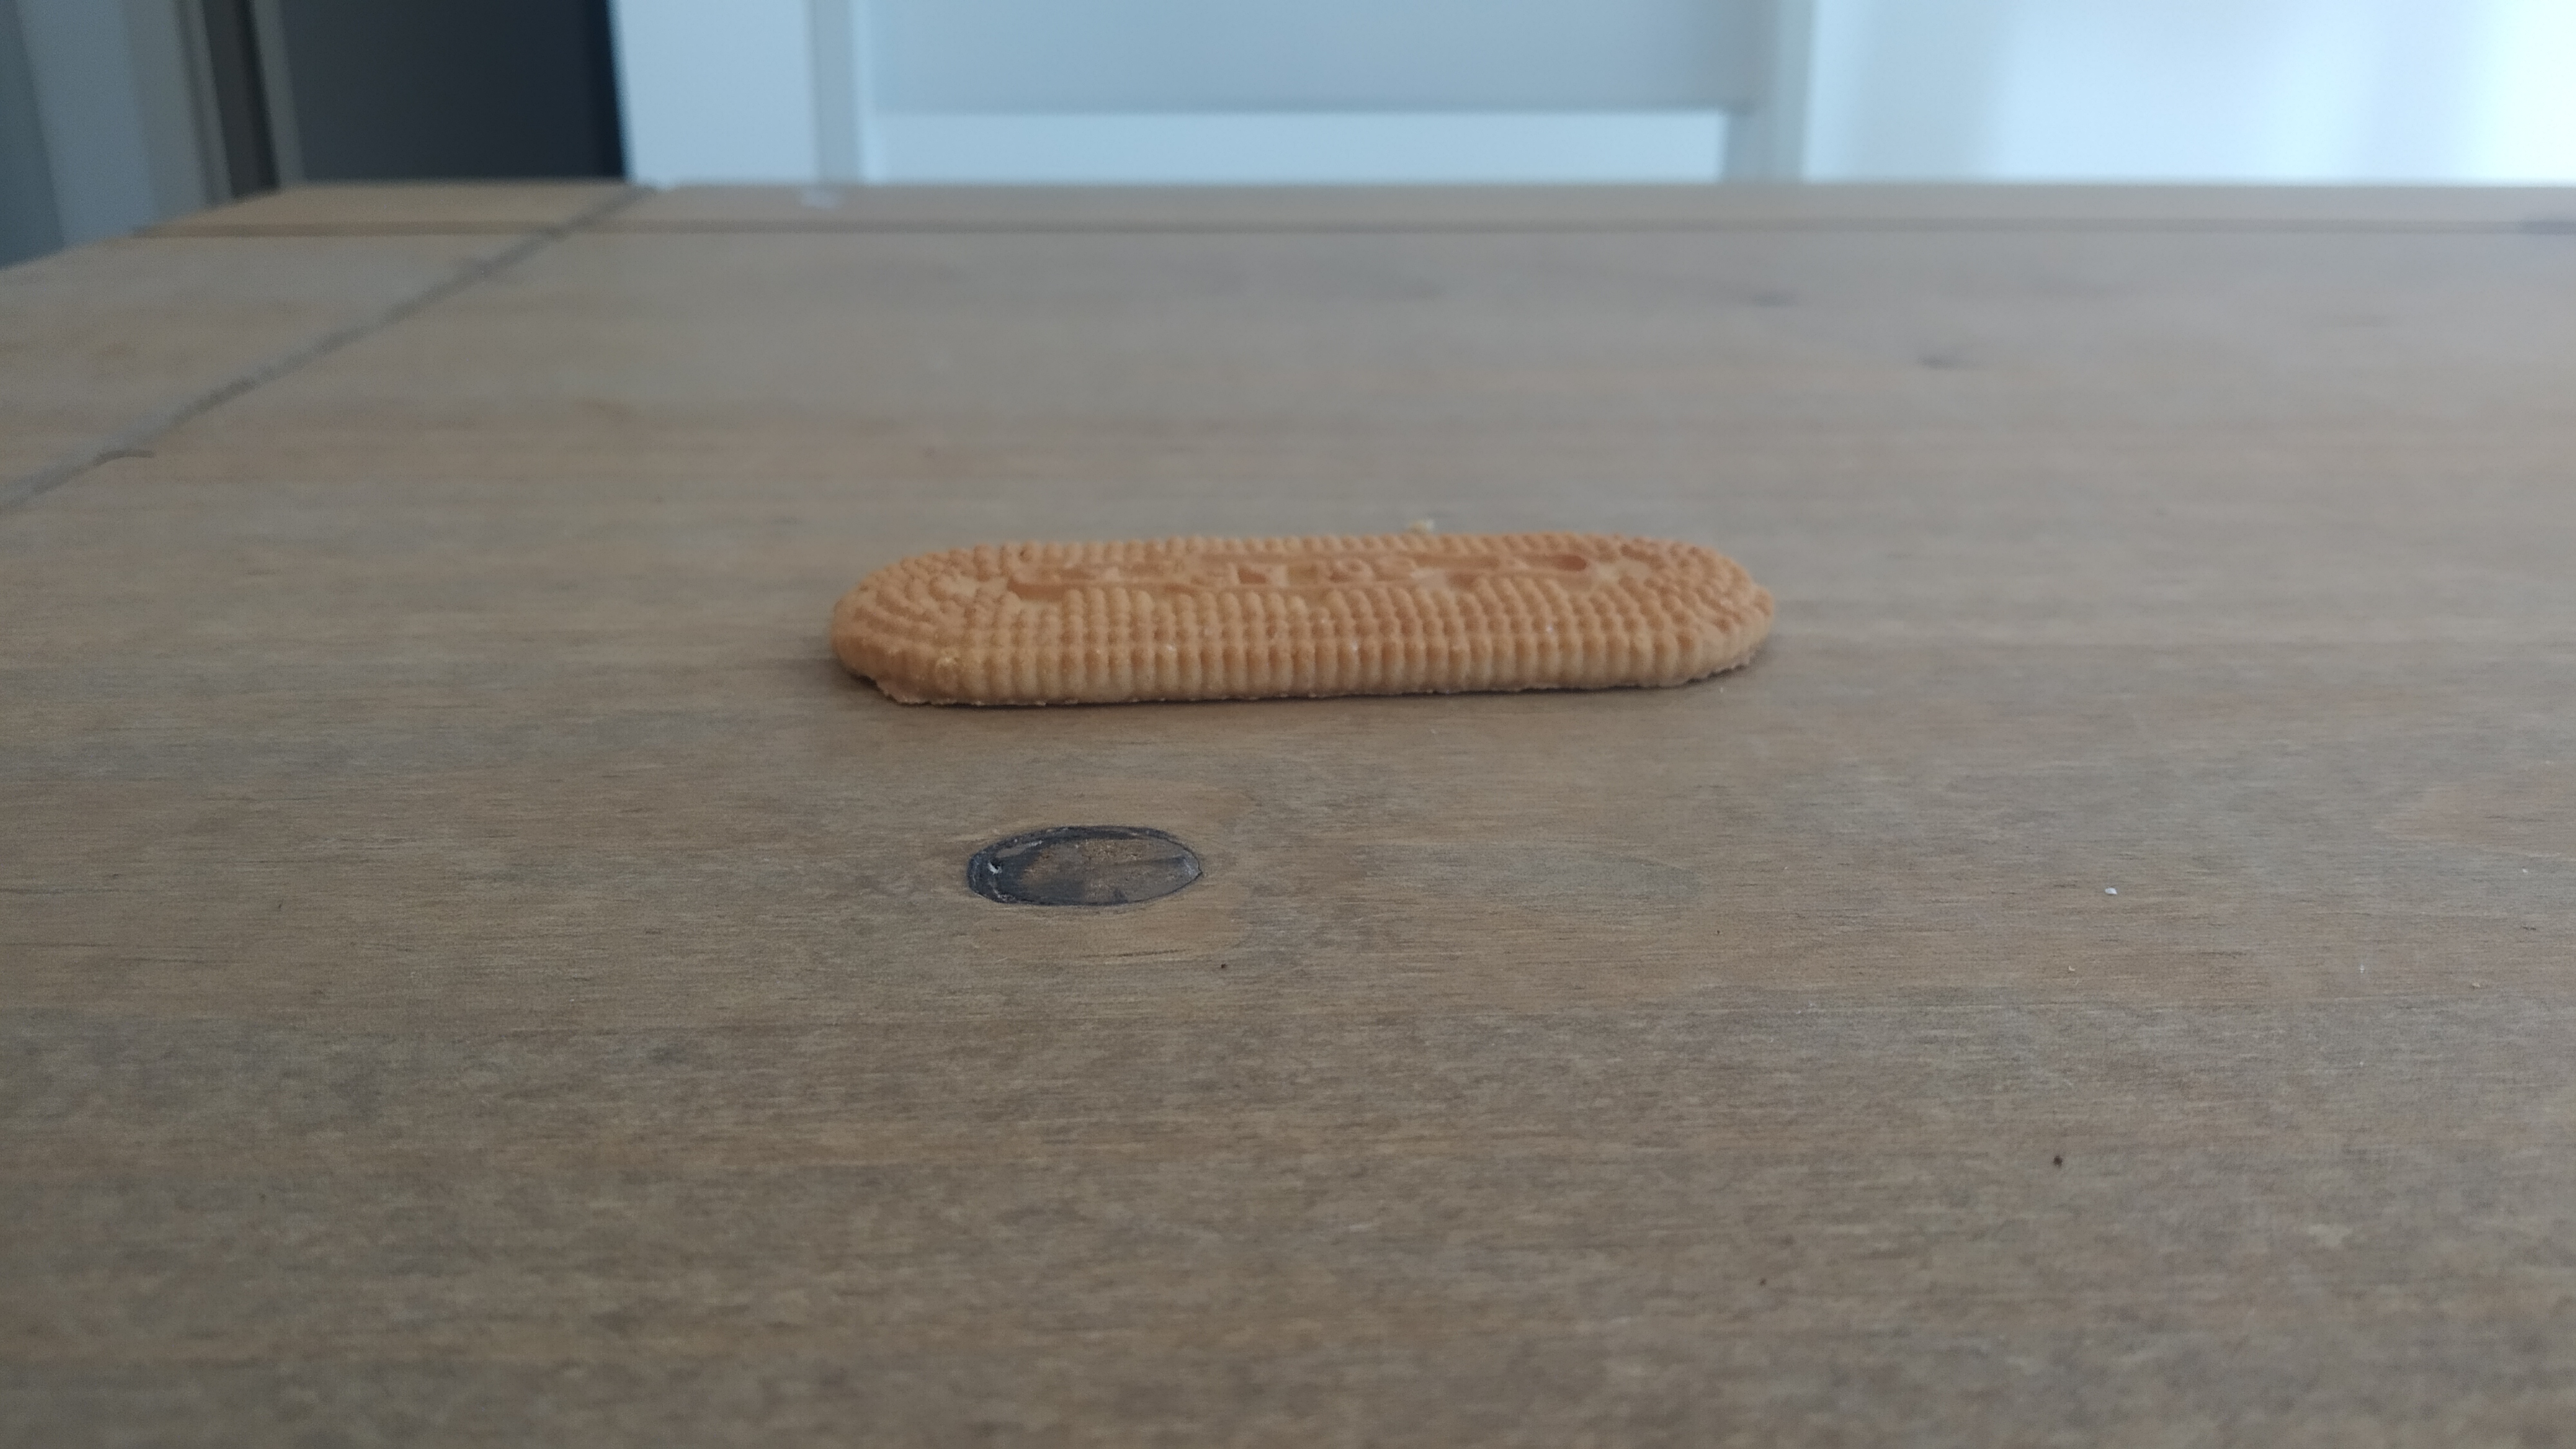solar: (826, 529, 1778, 706)
